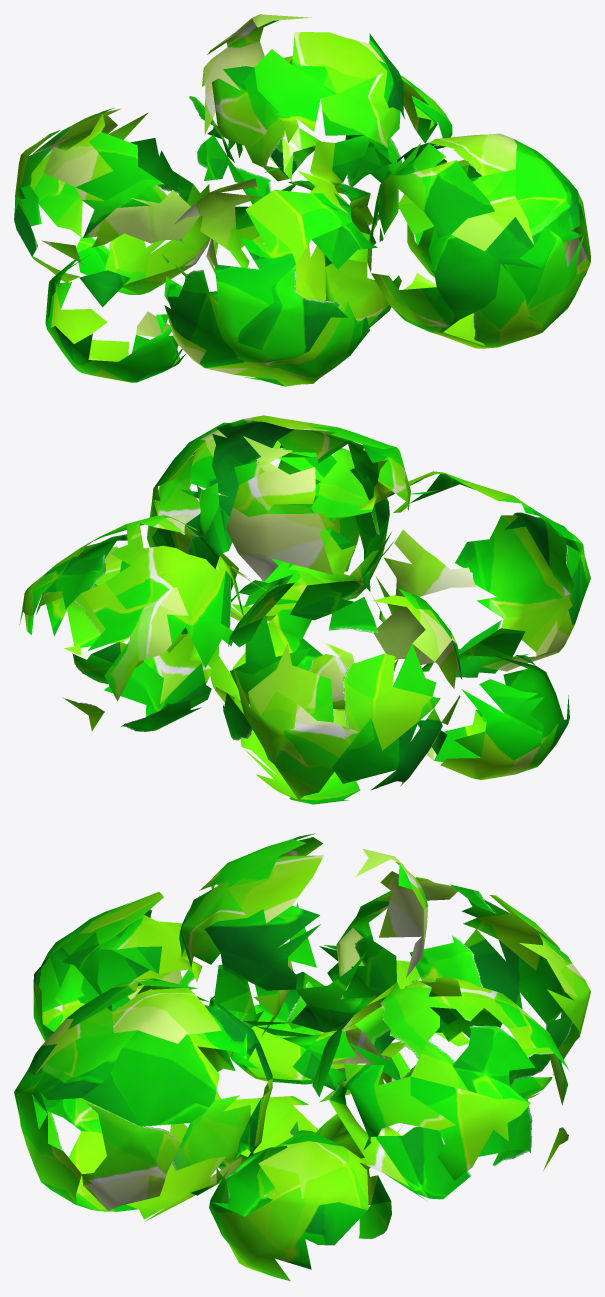
The model's file is emerald_gem_pile_3500tris.fbx.
3 views of the same model, one above another, from view 1: azimuth 30°, elevation 25°; view 2: azimuth 150°, elevation 25°; view 3: azimuth 270°, elevation 25° (orthographic). The views are drawn at different scales.
Visible parts, largest first — view 1: emerald_gem_pile_decimated; view 2: emerald_gem_pile_decimated; view 3: emerald_gem_pile_decimated.
Boxes of the visible parts, x1,y1,x2,y2 form: emerald_gem_pile_decimated: (14,14,590,386); emerald_gem_pile_decimated: (19,415,590,804); emerald_gem_pile_decimated: (14,833,590,1281).
Size of the model in its own units: 1.91 by 1.07 by 1.74.
